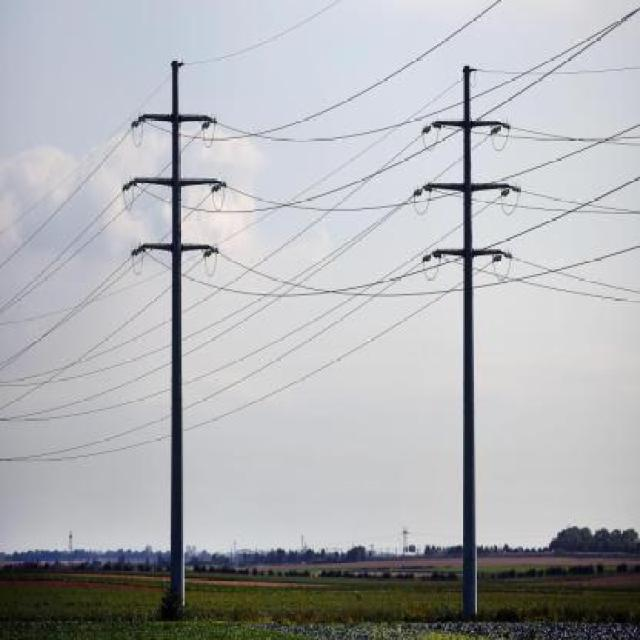light_pole: (128, 56, 222, 623), (420, 63, 509, 622)
